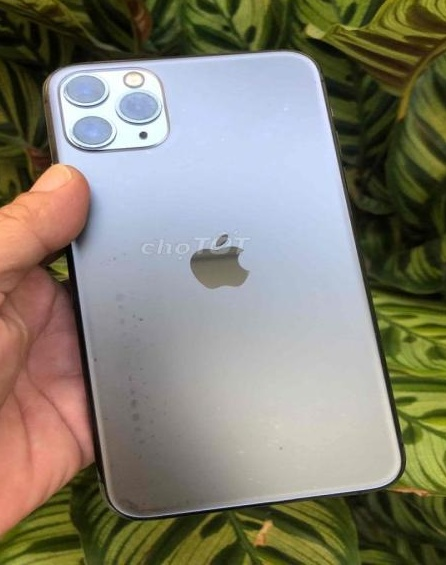scratch: (91, 249, 190, 470), (115, 485, 213, 527), (262, 433, 301, 471), (261, 99, 294, 122)
